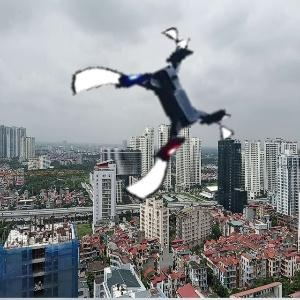drone: (80, 41, 230, 191)
